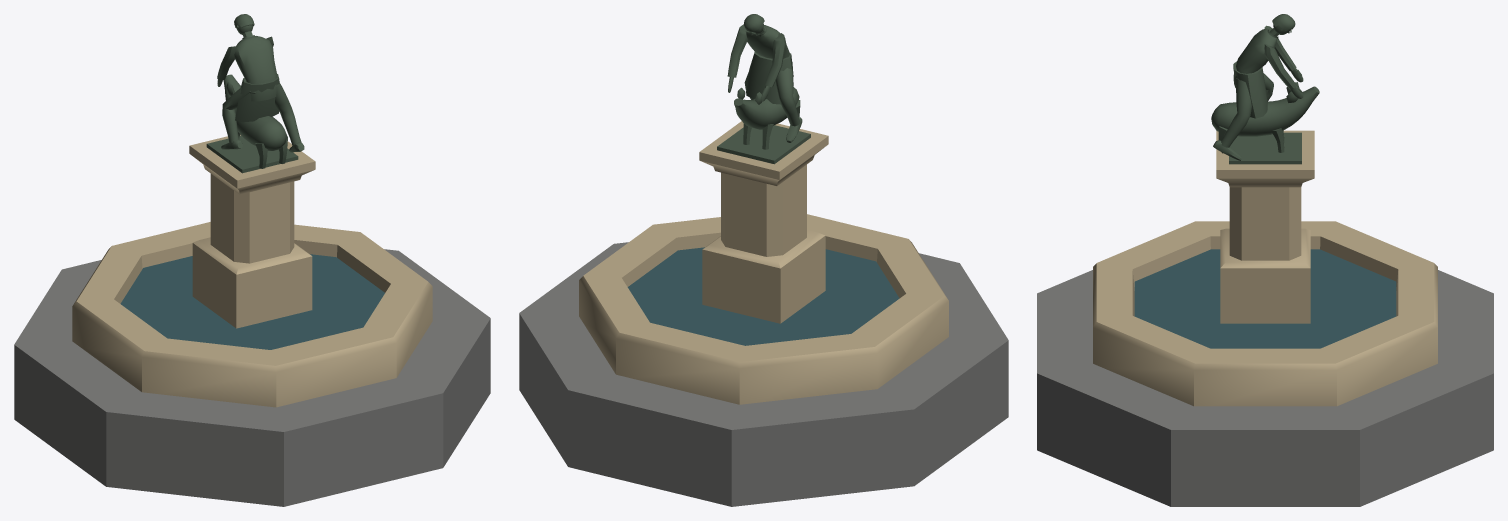
File: mon_schweinetreiberbrunnen.glb
The picture shows the model from 3 angles, left to right: view 1: azimuth 30°, elevation 25°; view 2: azimuth 150°, elevation 25°; view 3: azimuth 270°, elevation 25°; orthographic projection. The views are drawn at different scales.
Visible parts, largest first — view 1: mon_schweinetreiberbrunnen; view 2: mon_schweinetreiberbrunnen; view 3: mon_schweinetreiberbrunnen.
Boxes of the visible parts, <box> form: mon_schweinetreiberbrunnen: <box>14,14,490,506</box>; mon_schweinetreiberbrunnen: <box>519,14,1008,506</box>; mon_schweinetreiberbrunnen: <box>1037,14,1493,506</box>.
Bounding box in the file's own units: 3.44 × 3.29 × 3.44.
